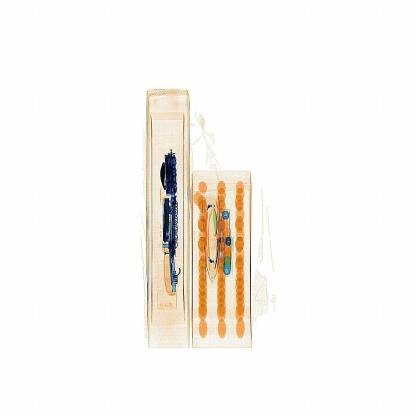pliers: (160, 214, 181, 306)
